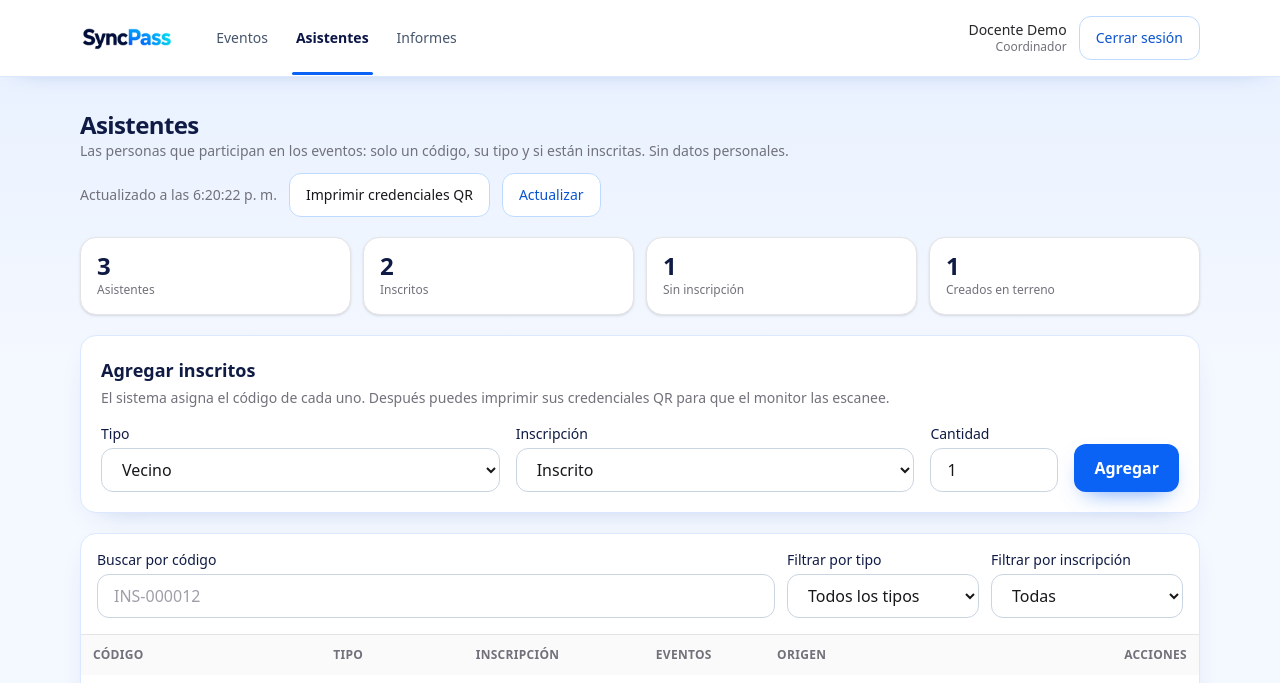
Test: pantalla de asistentes › agrega inscritos en lote y recarga la lista
Step 1. Select "Estudiante" in the dropdown labelled "Tipo" → (300, 470), box [101,448,500,492]
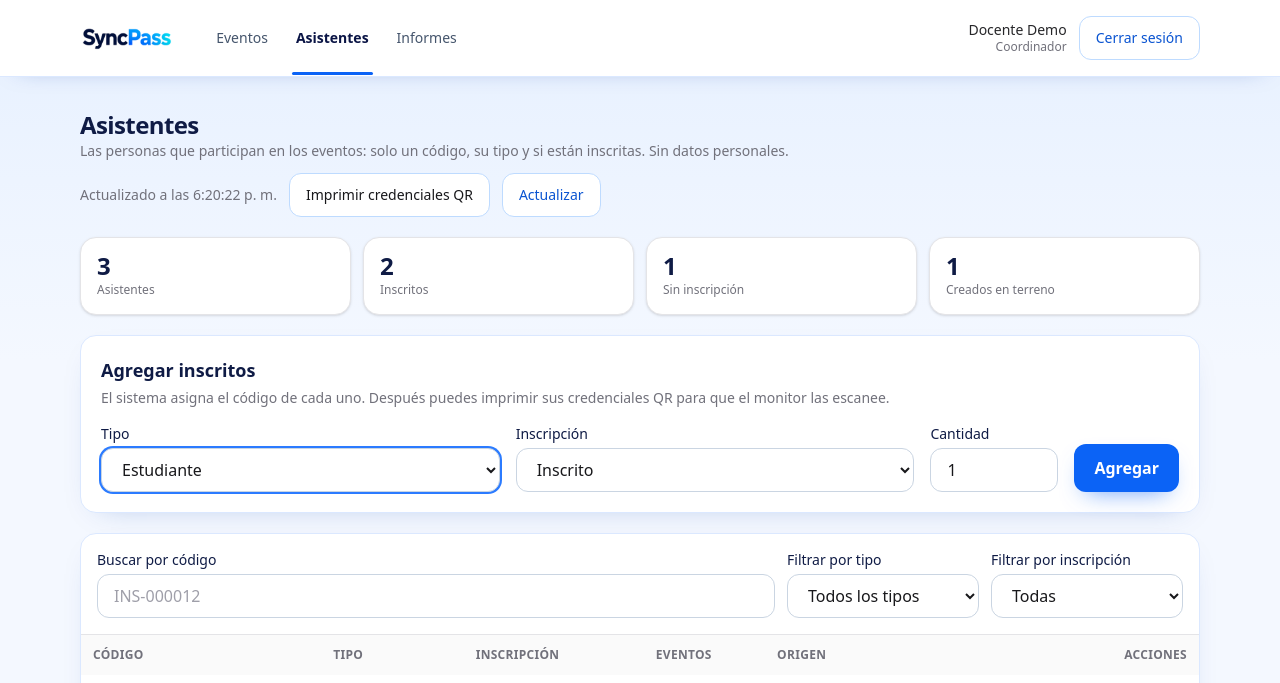
Step 2. Replace the text in the field labelled "Cantidad" with "5" → (994, 470), box [930,448,1058,492]
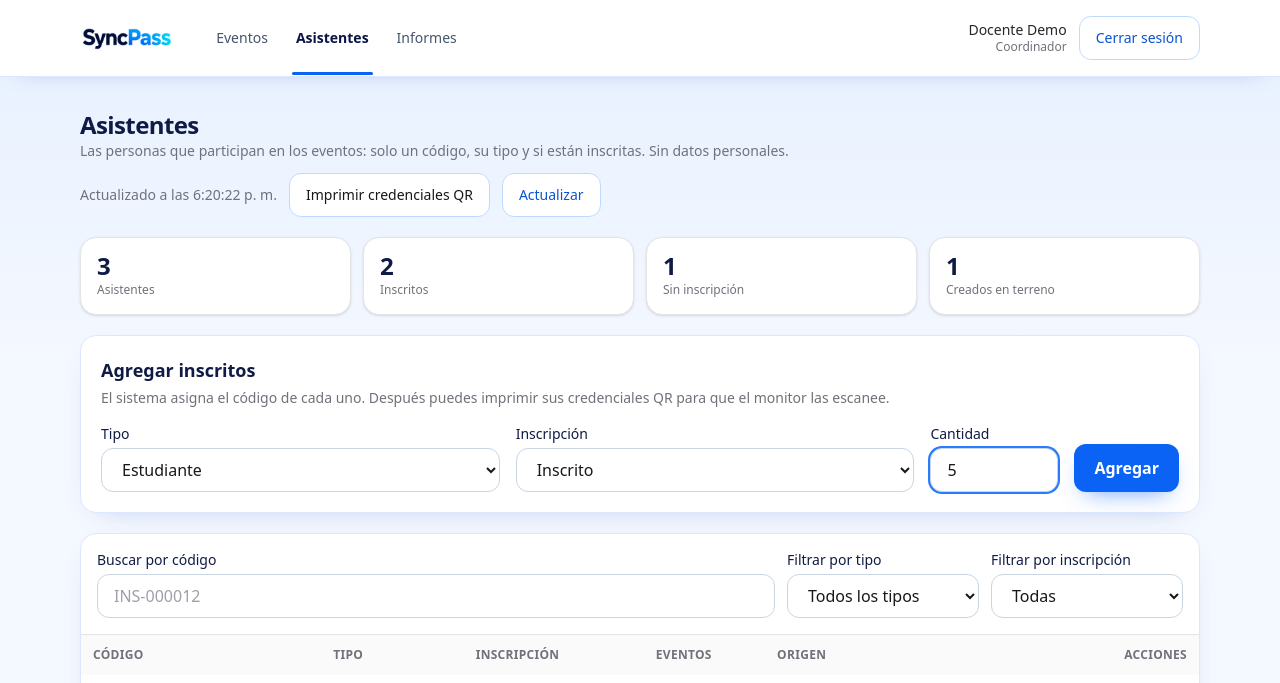
Step 3. Click the button "Agregar" → click(1127, 468), box [1074,444,1179,492]
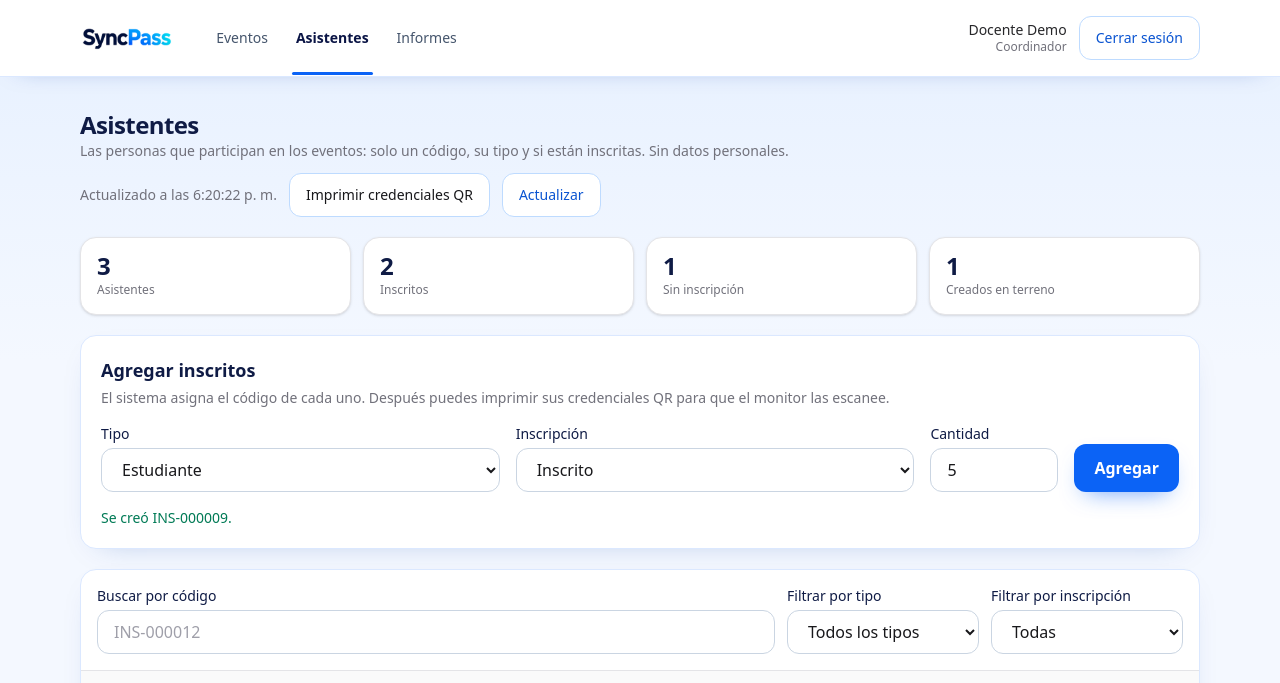
Expected: the message shows "INS-000009", [101,508,232,527]
